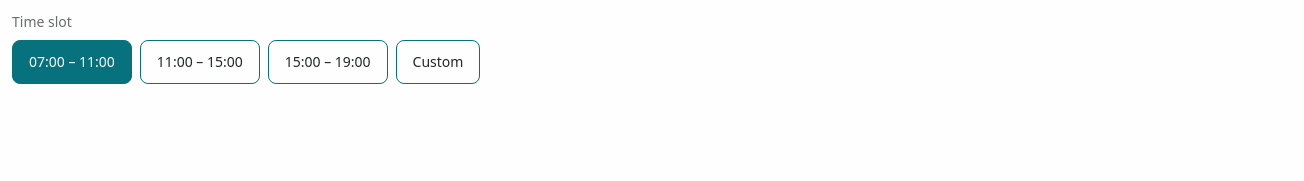
[UI-02][AC-03] TimeSlotChips custom slot › reveals start and end time inputs when 'Custom' is selected
This screenshot has width=1304, height=181.
expect the field labelled "Start time" is not shown: met
expect the field labelled "End time" is not shown: met
Click the radio button labelled "Custom" at {"x": 438, "y": 62}, box [396,40,480,84]
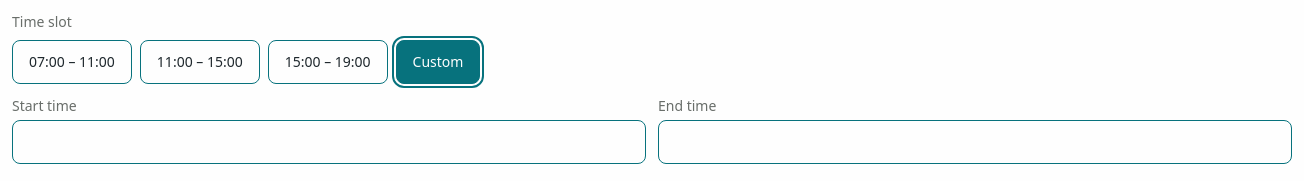
expect the field labelled "Start time" is shown: met, box [12,120,646,164]
expect the field labelled "End time" is shown: met, box [658,120,1292,164]
